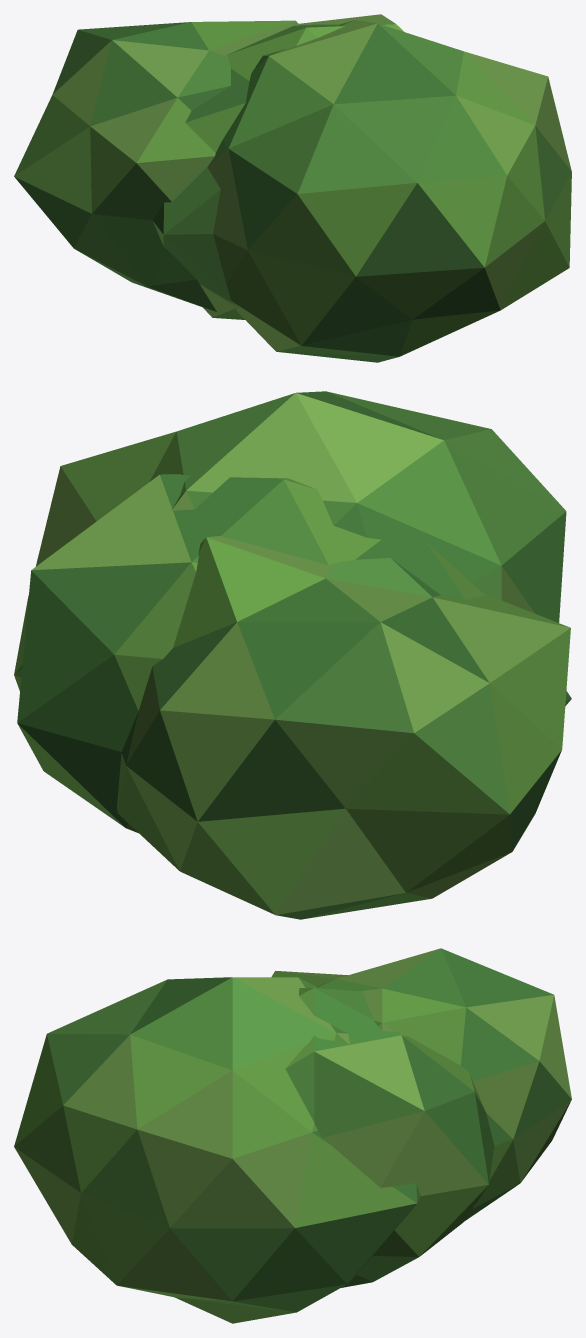
File: shrub.glb
3 renders of one model, top to bottom at view 1: azimuth 30°, elevation 25°; view 2: azimuth 150°, elevation 25°; view 3: azimuth 270°, elevation 25°, orthographic. The views are drawn at different scales.
Visible parts, largest first — view 1: shrub; view 2: shrub; view 3: shrub.
Boxes of the visible parts, x1,y1,x2,y2 form: shrub: [14, 14, 571, 362]; shrub: [14, 391, 571, 919]; shrub: [14, 948, 571, 1323].
Bounding box in the file's own units: 1.36 × 1.03 × 1.5.
